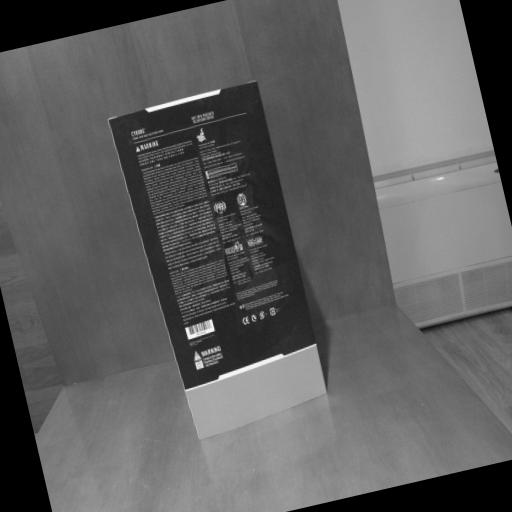Cyborg: (106, 77, 340, 446)
